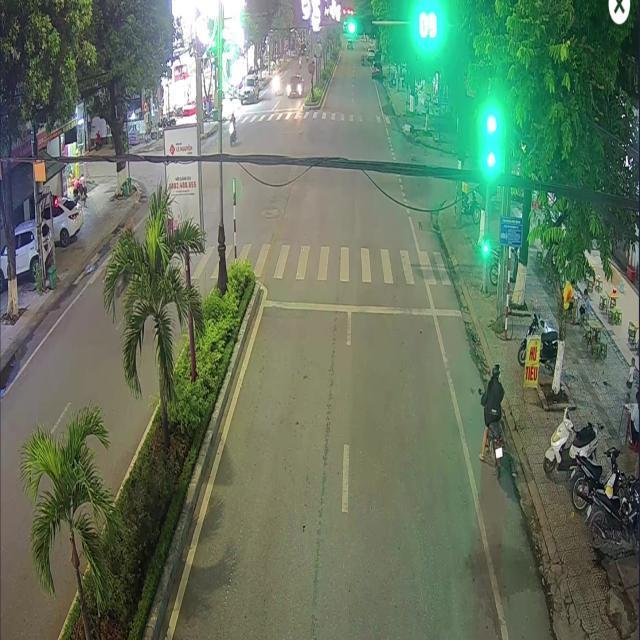green_light: (346, 15, 373, 36), (486, 135, 495, 168), (483, 236, 487, 254)
motobike: (488, 423, 502, 479)
stop_line: (263, 299, 460, 315)
